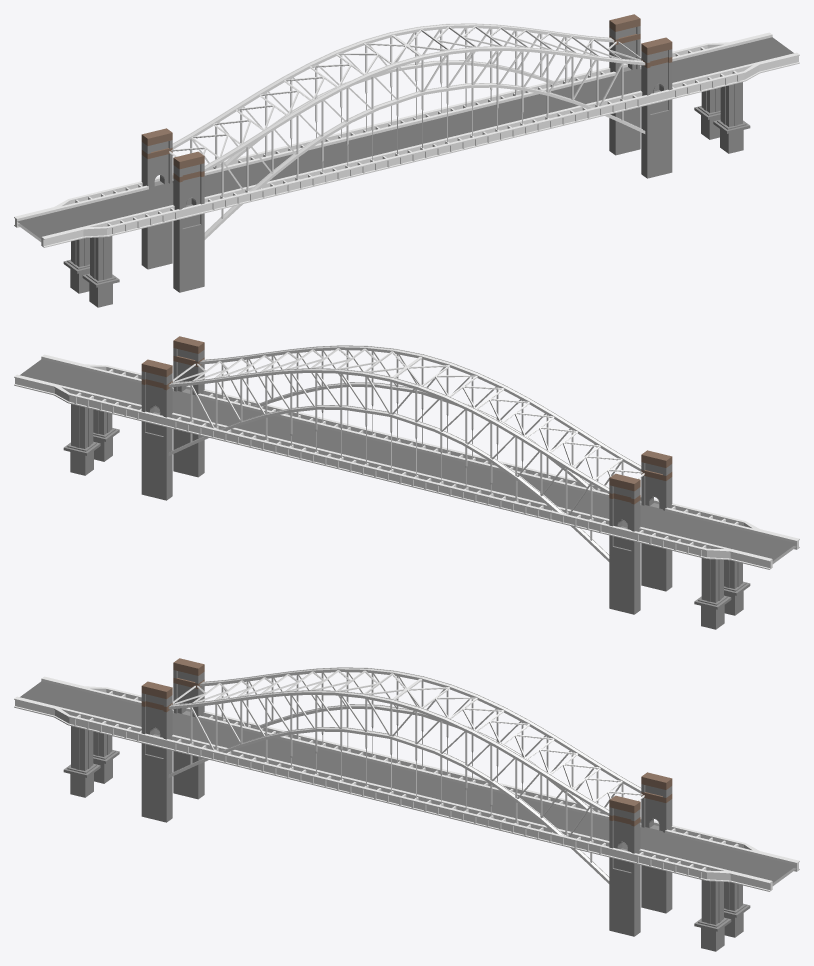
The model's file is bridge.obj.
The picture shows the model from 3 angles, top to bottom: view 1: azimuth 30°, elevation 25°; view 2: azimuth 150°, elevation 25°; view 3: azimuth 330°, elevation 25°; orthographic projection.
Visible parts, largest first — view 1: Large_steel_arch_Cube.560; view 2: Large_steel_arch_Cube.560; view 3: Large_steel_arch_Cube.560.
Boxes of the visible parts, x1=… form: Large_steel_arch_Cube.560: x1=14, y1=14, x2=799, y2=307; Large_steel_arch_Cube.560: x1=14, y1=336, x2=799, y2=629; Large_steel_arch_Cube.560: x1=14, y1=658, x2=799, y2=951.
Size of the model in its own units: 37.8 by 8.33 by 3.44.
